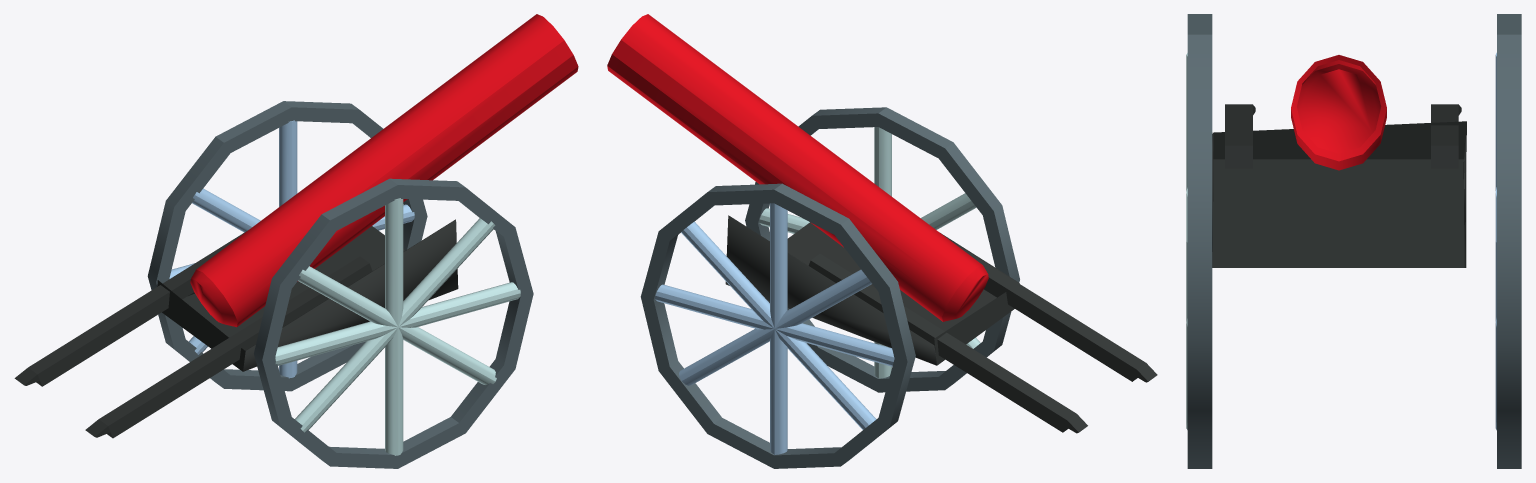
File: top_atma.fbx
The picture shows the model from 3 angles, left to right: view 1: azimuth 30°, elevation 25°; view 2: azimuth 150°, elevation 25°; view 3: azimuth 270°, elevation 25°; orthographic projection. The views are drawn at different scales.
Parts seen in each view (by area): view 1: top_atma; view 2: top_atma; view 3: top_atma.
Boxes of the visible parts, x1=… form: top_atma: x1=14, y1=14, x2=578, y2=468; top_atma: x1=607, y1=14, x2=1157, y2=468; top_atma: x1=1186, y1=14, x2=1521, y2=468.
Size of the model in its own units: 568 by 386 by 220.
